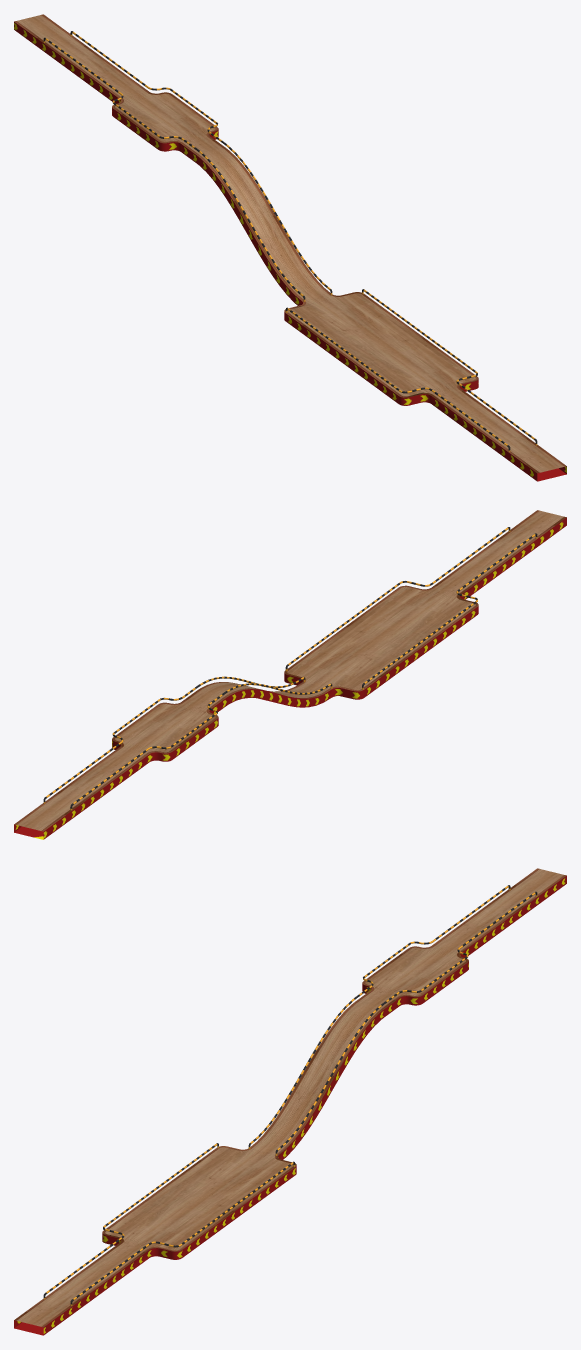
Rendered from mapanti.fbx.
3 renders of one model, top to bottom at view 1: azimuth 30°, elevation 25°; view 2: azimuth 150°, elevation 25°; view 3: azimuth 330°, elevation 25°, orthographic.
Visible parts, largest first — view 1: Bonus_Start_001, PIpe_6_1; view 2: Bonus_Start_001, PIpe_6_1; view 3: Bonus_Start_001, PIpe_6_1.
Part boxes in pixels (<box>): Bonus_Start_001: <box>14,14,566,481</box>; PIpe_6_1: <box>43,31,537,451</box>; Bonus_Start_001: <box>14,510,566,839</box>; PIpe_6_1: <box>43,527,537,810</box>; Bonus_Start_001: <box>14,868,566,1335</box>; PIpe_6_1: <box>43,885,537,1305</box>.
Bounding box in the file's own units: 1200 × 1200 × 13800.
Materials: 2 (2 with a texture image).
